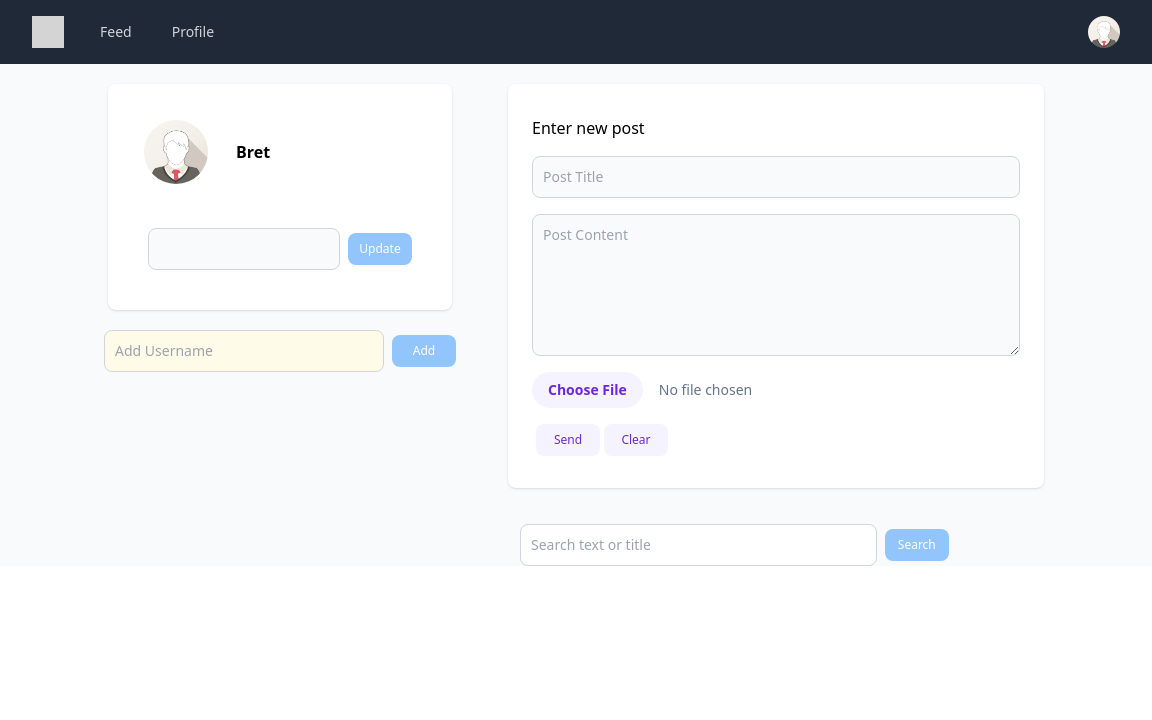
Scenario: should show error when add self as friend
In the field with test id "add_follow": (244, 351) x1=104 y1=330 x2=384 y2=372, type "Bret"
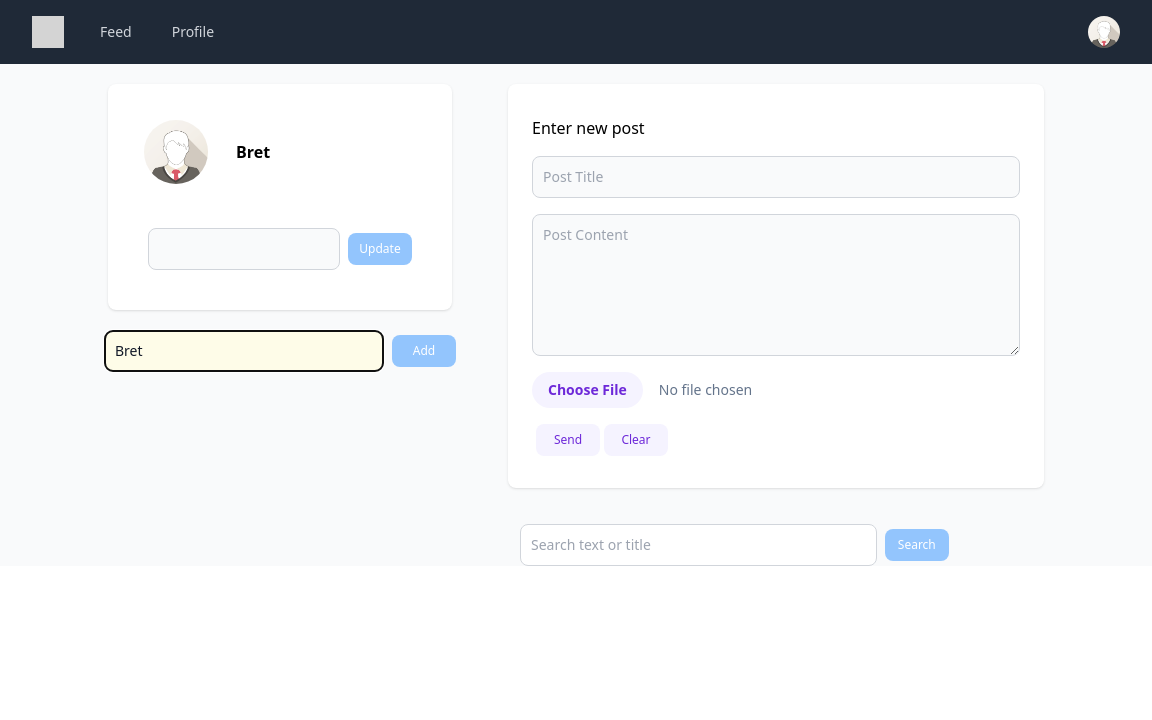
Click the button with test id "addfollowbtn": (424, 351) x1=392 y1=335 x2=456 y2=367
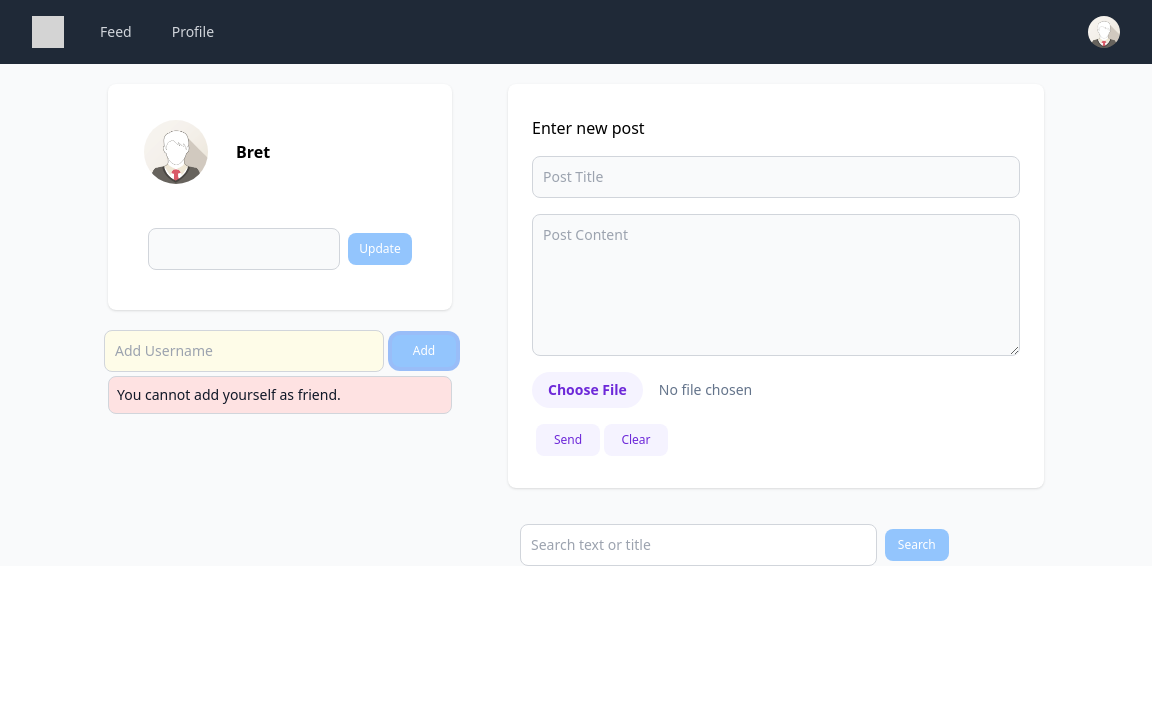
Check: the text "You cannot add yourself as friend." is shown, box x1=108 y1=376 x2=452 y2=414
